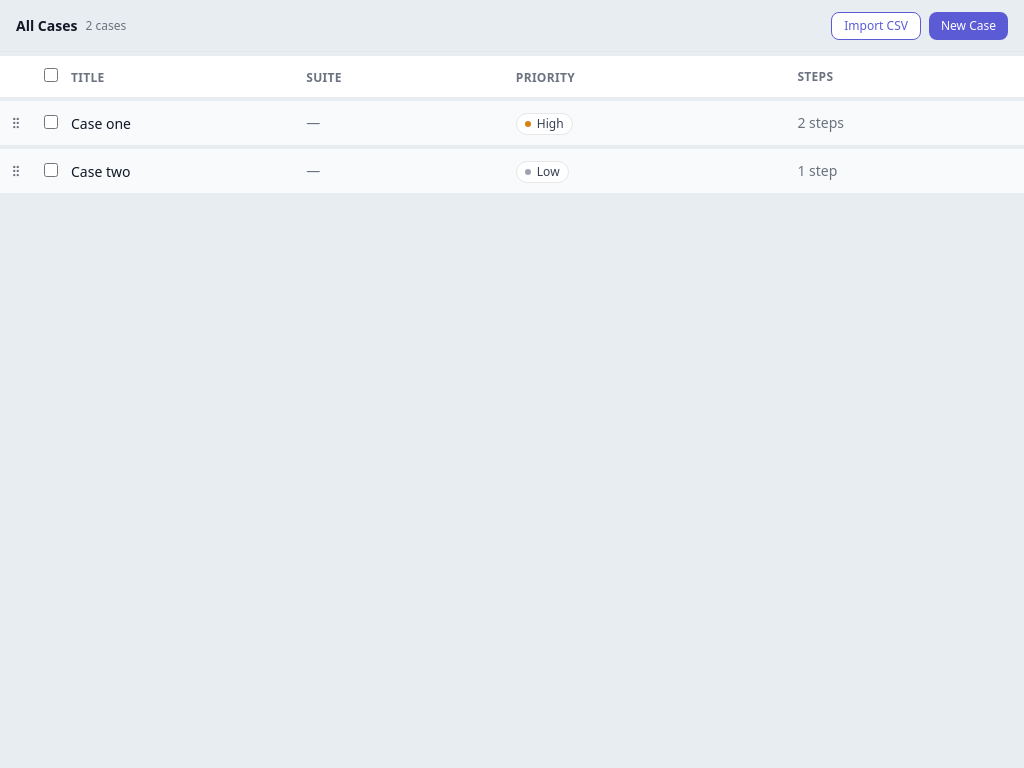
Test case: CaseList — bulk delete feedback › offers Undo after delete, which restores the deleted cases via the API
Click the checkbox named "Select all".
click(51, 75)  # box [44,68,58,82]
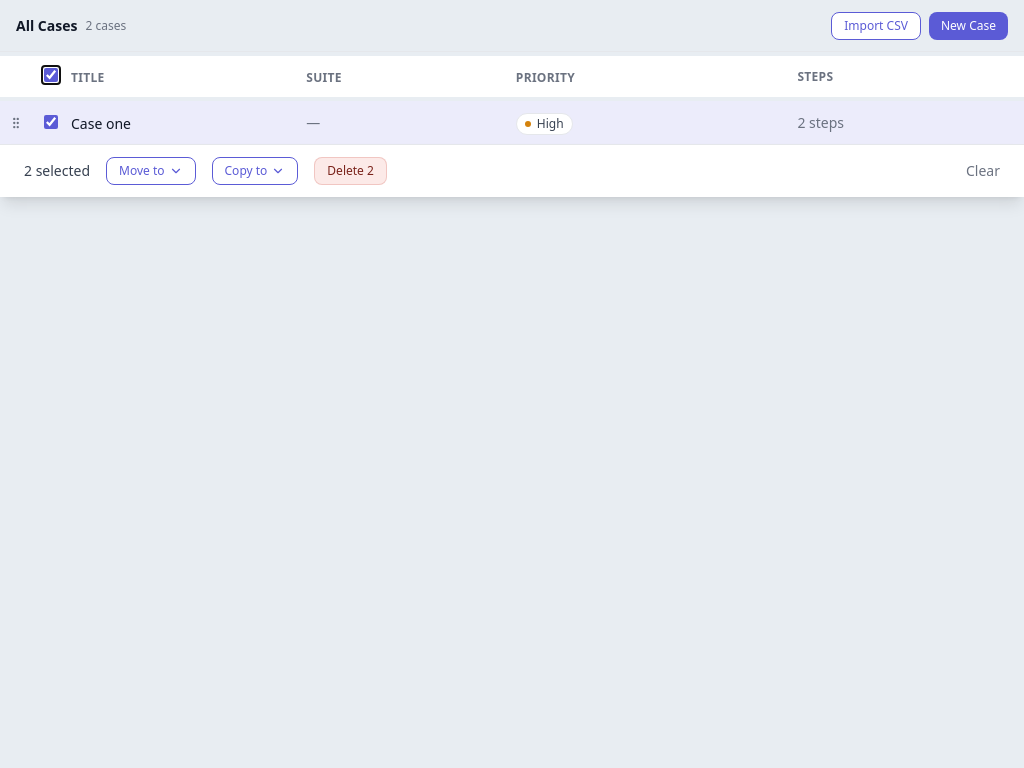
Click the button "Delete 2".
click(351, 171)  # box [314,157,387,185]
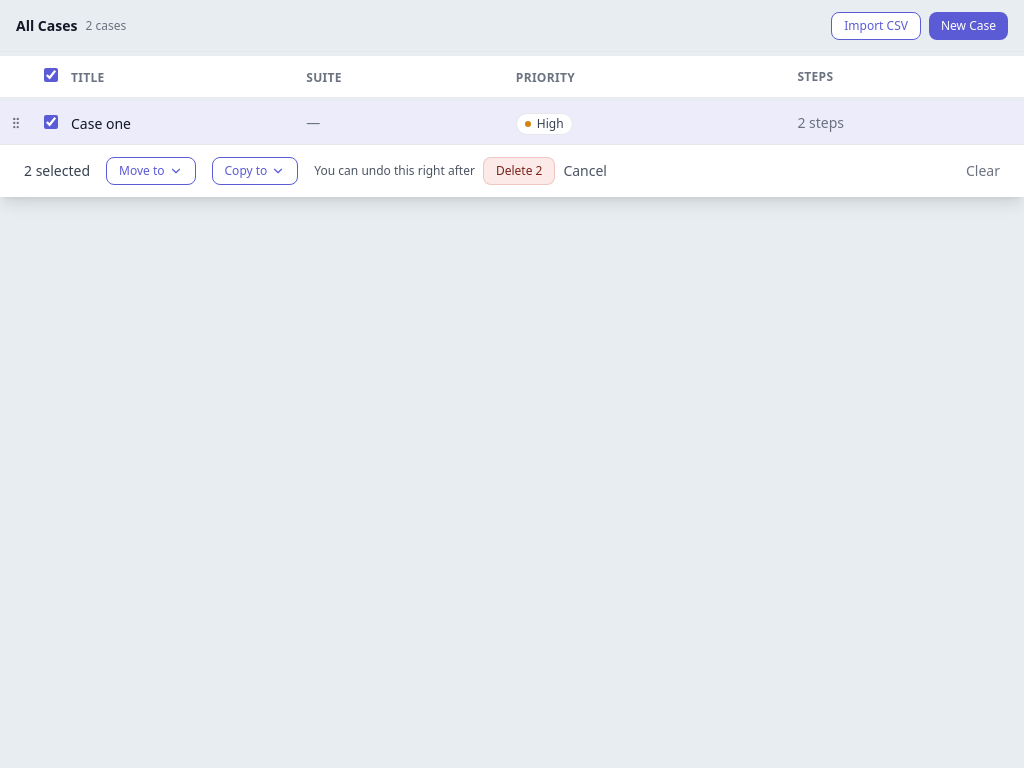
Click the button "Delete 2".
click(519, 171)  # box [483,157,555,185]
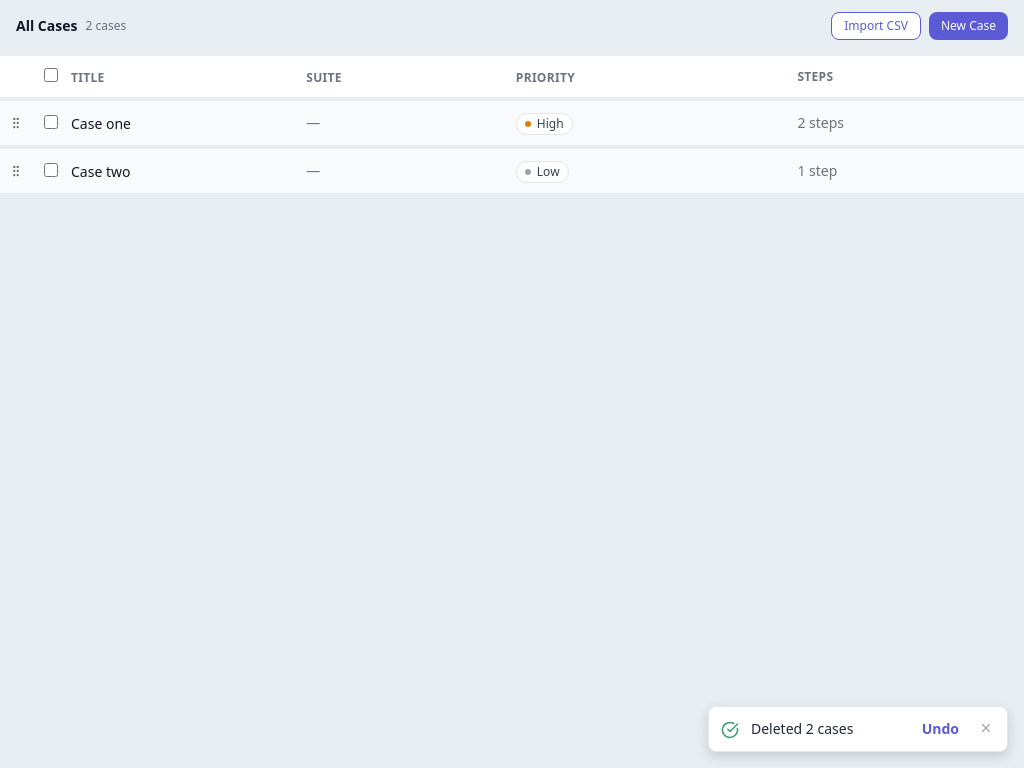
Click the button "Undo".
click(940, 729)  # box [916,719,965,739]
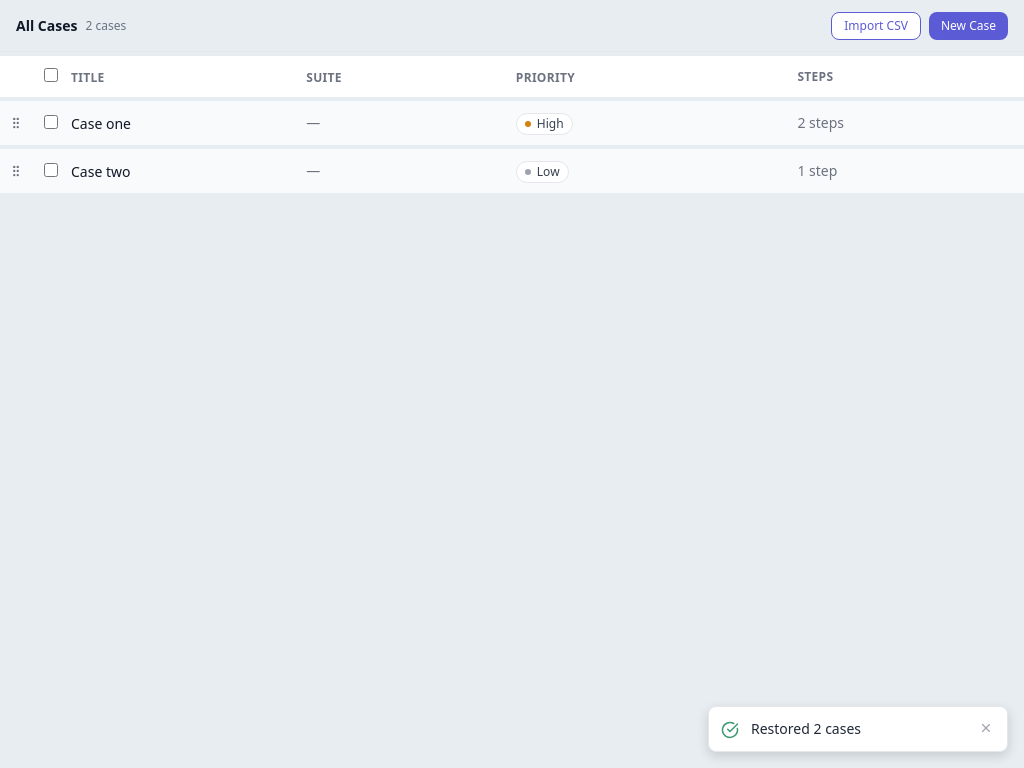
Result: the text "Restored 2 cases" is shown at [751,719,861,738]
